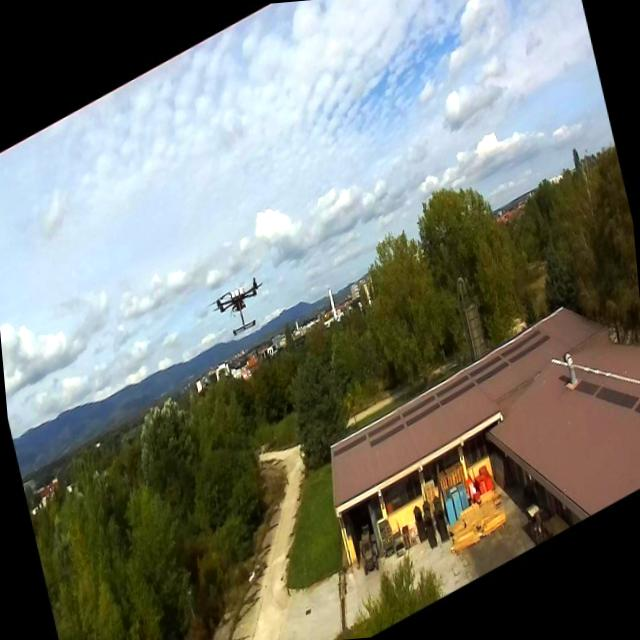drone: (208, 268, 270, 346)
